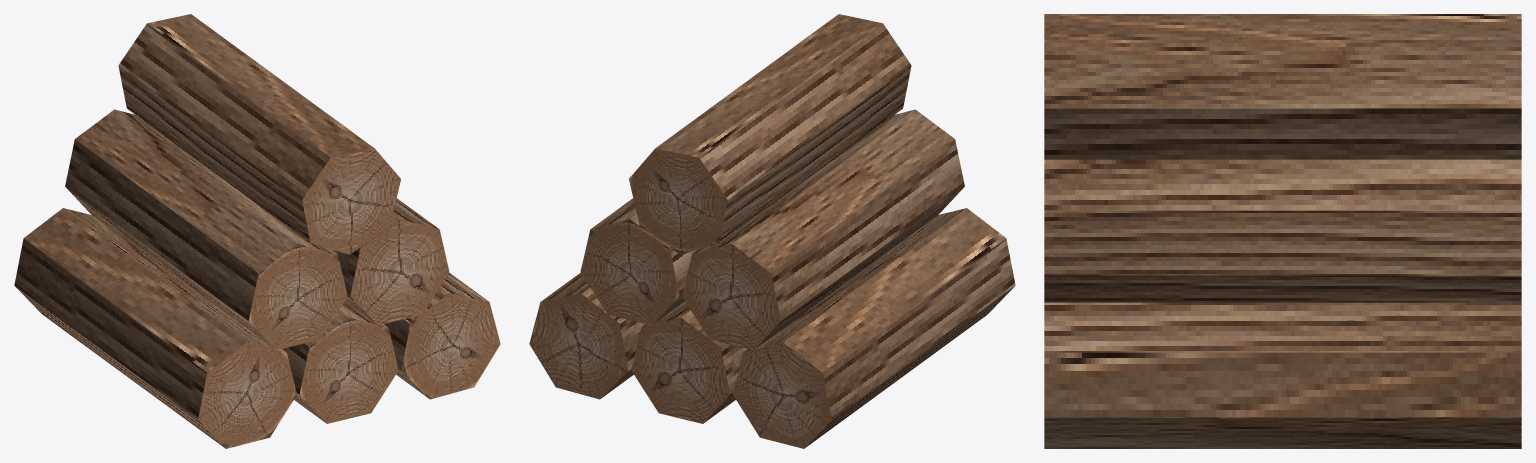
The model's file is logs.glb.
The picture shows the model from 3 angles, left to right: view 1: azimuth 30°, elevation 25°; view 2: azimuth 150°, elevation 25°; view 3: azimuth 270°, elevation 25°; orthographic projection. The views are drawn at different scales.
Visible parts, largest first — view 1: Cylinder.002, Cylinder.003, Cylinder.005, Cylinder.001, Cylinder, Cylinder.004; view 2: Cylinder.002, Cylinder.003, Cylinder.005, Cylinder.001, Cylinder, Cylinder.004; view 3: Cylinder.001, Cylinder.002, Cylinder.004.
Boxes of the visible parts, bbox=[...] form: Cylinder.002: bbox=[118, 14, 400, 254]; Cylinder.003: bbox=[14, 208, 296, 448]; Cylinder.005: bbox=[65, 109, 347, 350]; Cylinder.001: bbox=[384, 272, 500, 399]; Cylinder: bbox=[283, 301, 398, 423]; Cylinder.004: bbox=[332, 198, 449, 325]; Cylinder.002: bbox=[629, 14, 911, 254]; Cylinder.003: bbox=[733, 208, 1015, 448]; Cylinder.005: bbox=[682, 109, 964, 350]; Cylinder.001: bbox=[529, 272, 645, 399]; Cylinder: bbox=[631, 301, 746, 423]; Cylinder.004: bbox=[580, 198, 697, 325]; Cylinder.001: bbox=[1044, 302, 1521, 448]; Cylinder.002: bbox=[1044, 14, 1521, 159]; Cylinder.004: bbox=[1044, 159, 1521, 302].
Size of the model in its own units: 5.95 by 5 by 6.26.
Materials: 1 (1 with a texture image).
